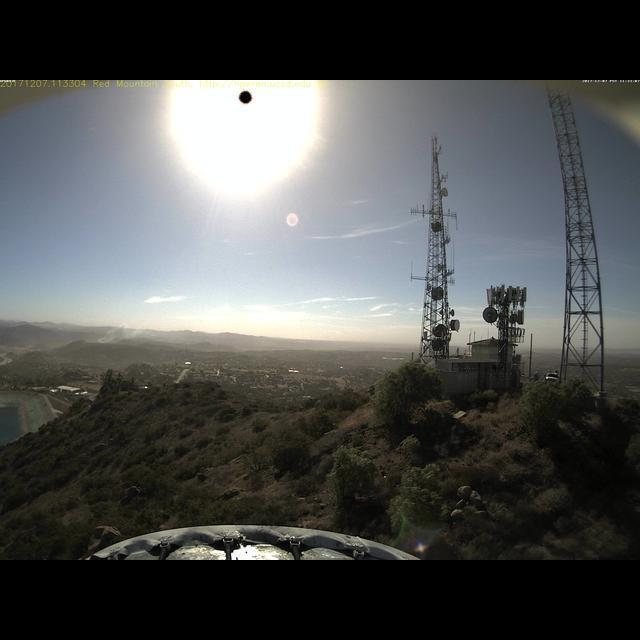Smoke: (86, 311, 157, 345)
